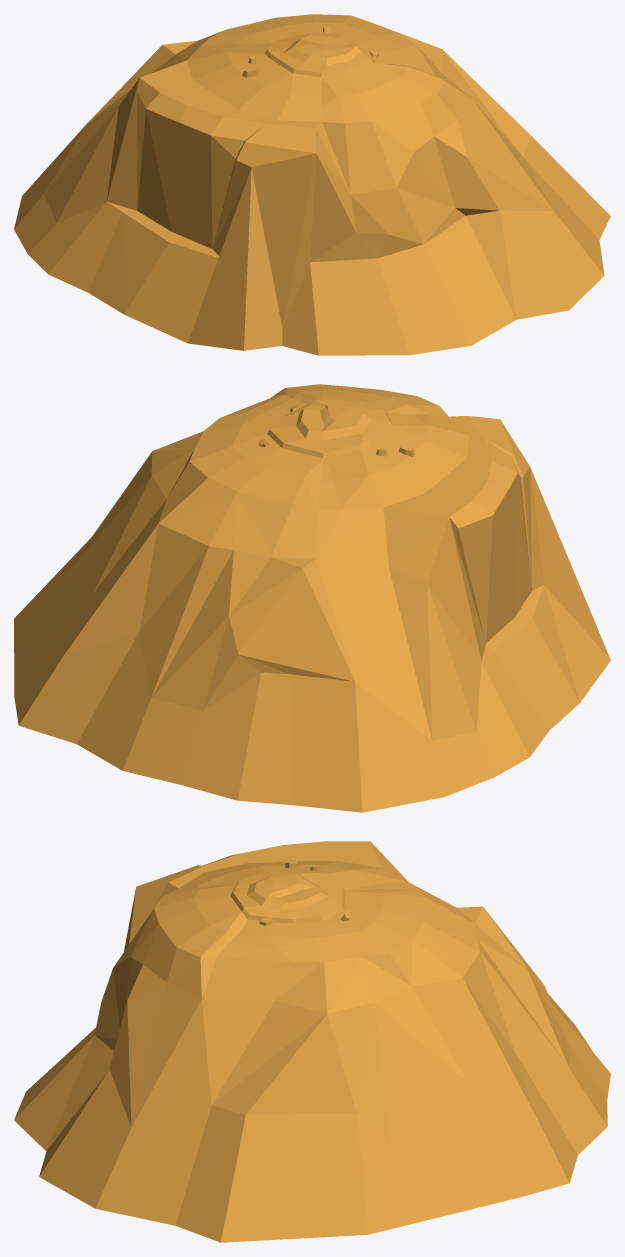
File: island-round-tiny.fbx
3 views of the same model, one above another, from view 1: azimuth 30°, elevation 25°; view 2: azimuth 150°, elevation 25°; view 3: azimuth 270°, elevation 25° (orthographic). The views are drawn at different scales.
Visible parts, largest first — view 1: island-round-tiny; view 2: island-round-tiny; view 3: island-round-tiny.
Boxes of the visible parts, x1,y1,x2,y2 form: island-round-tiny: [14, 14, 610, 355]; island-round-tiny: [14, 384, 610, 812]; island-round-tiny: [14, 841, 610, 1242].
Bounding box in the file's own units: 93.36 × 39.2 × 94.82.
